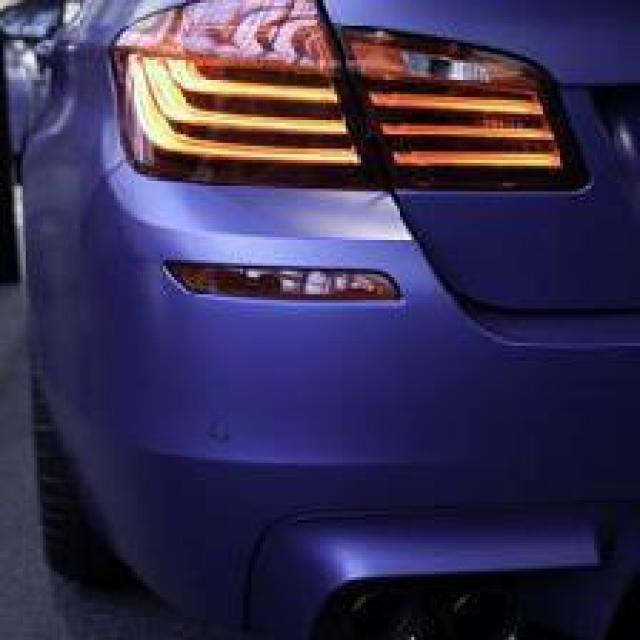damaged: (206, 421, 234, 448)
